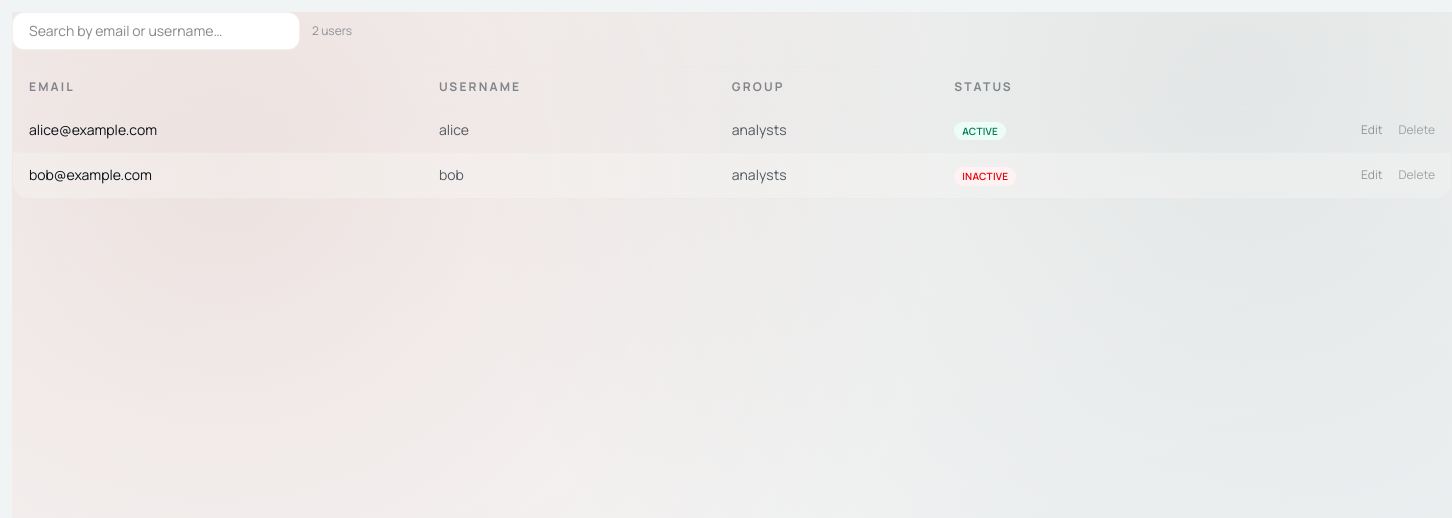
Scenario: UsersPanel – search › shows 'No users found.' when search matches nothing
Expected: the text "alice@example.com" is shown, x1=13 y1=108 x2=423 y2=153
Type "zzzzz" into the field with placeholder "Search by email or username…" at (156, 31), box x1=12 y1=12 x2=300 y2=50
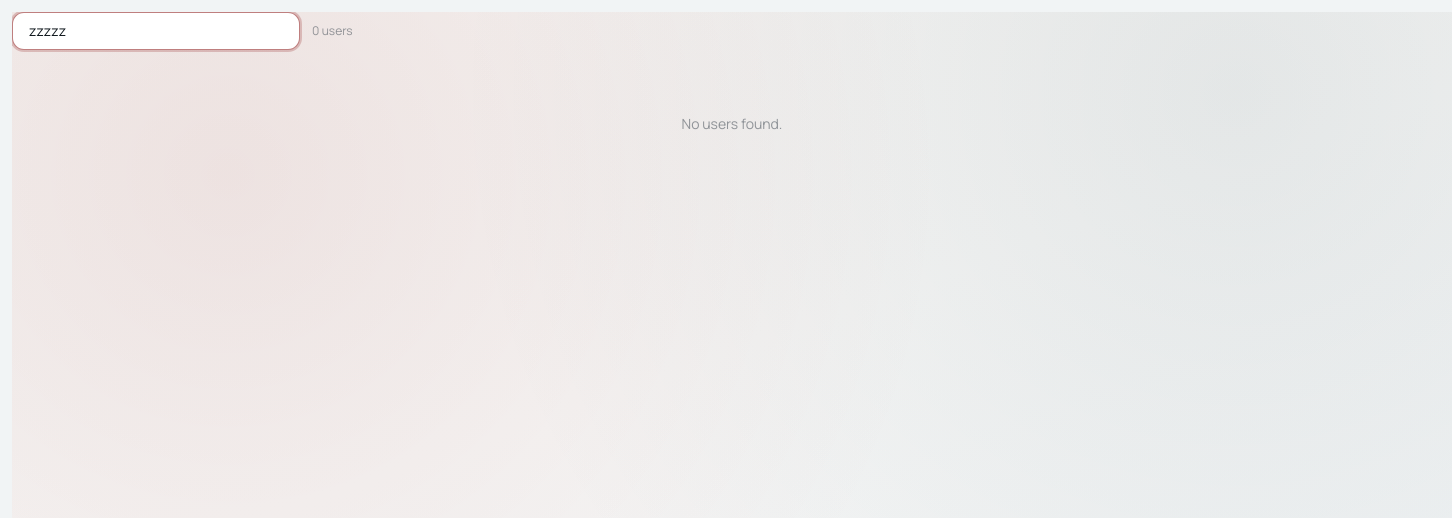
Now the text "No users found." is shown, box x1=682 y1=114 x2=782 y2=133
